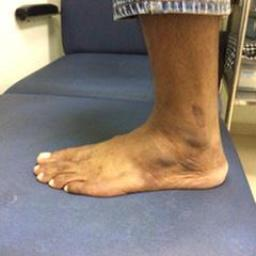Lateral View -Left Foot-: (26, 94, 232, 207)
